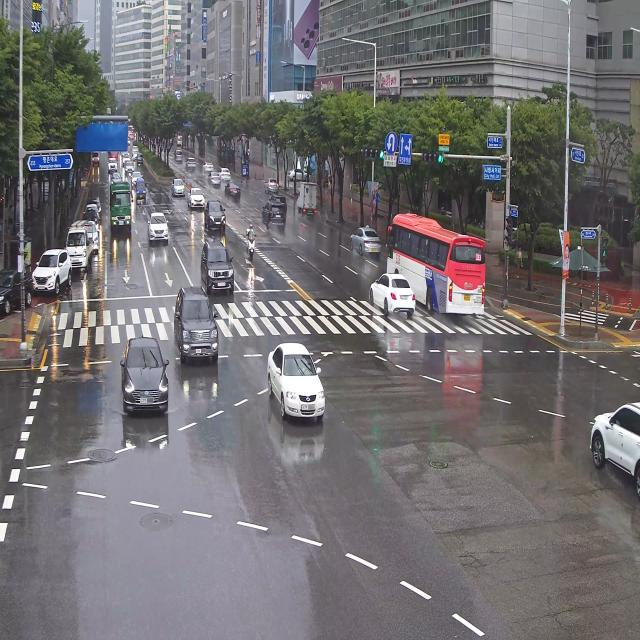Bus: (386, 216, 490, 316)
Car: (100, 319, 172, 427), (260, 329, 326, 432), (161, 276, 225, 377), (590, 381, 640, 487), (361, 265, 422, 323), (30, 239, 76, 304), (202, 234, 245, 299), (145, 204, 187, 259), (0, 259, 34, 318), (346, 222, 382, 261), (260, 199, 288, 231), (204, 199, 226, 231), (187, 184, 206, 213), (84, 221, 101, 251), (287, 163, 312, 180), (224, 179, 241, 203), (270, 191, 287, 212), (135, 177, 148, 204), (172, 174, 186, 198), (207, 168, 221, 187), (263, 175, 279, 191), (86, 204, 100, 220), (185, 153, 196, 172), (92, 194, 102, 212), (220, 165, 231, 181), (132, 169, 143, 185), (174, 148, 184, 164), (203, 160, 214, 174), (107, 159, 118, 173), (110, 172, 122, 184), (125, 161, 135, 175), (136, 151, 145, 166), (121, 153, 131, 166), (132, 147, 140, 160), (132, 145, 138, 153)
Motorcycle: (244, 215, 262, 266)
Truck: (63, 217, 95, 278), (110, 181, 132, 232), (296, 180, 320, 220), (90, 148, 102, 168), (109, 150, 119, 164)
